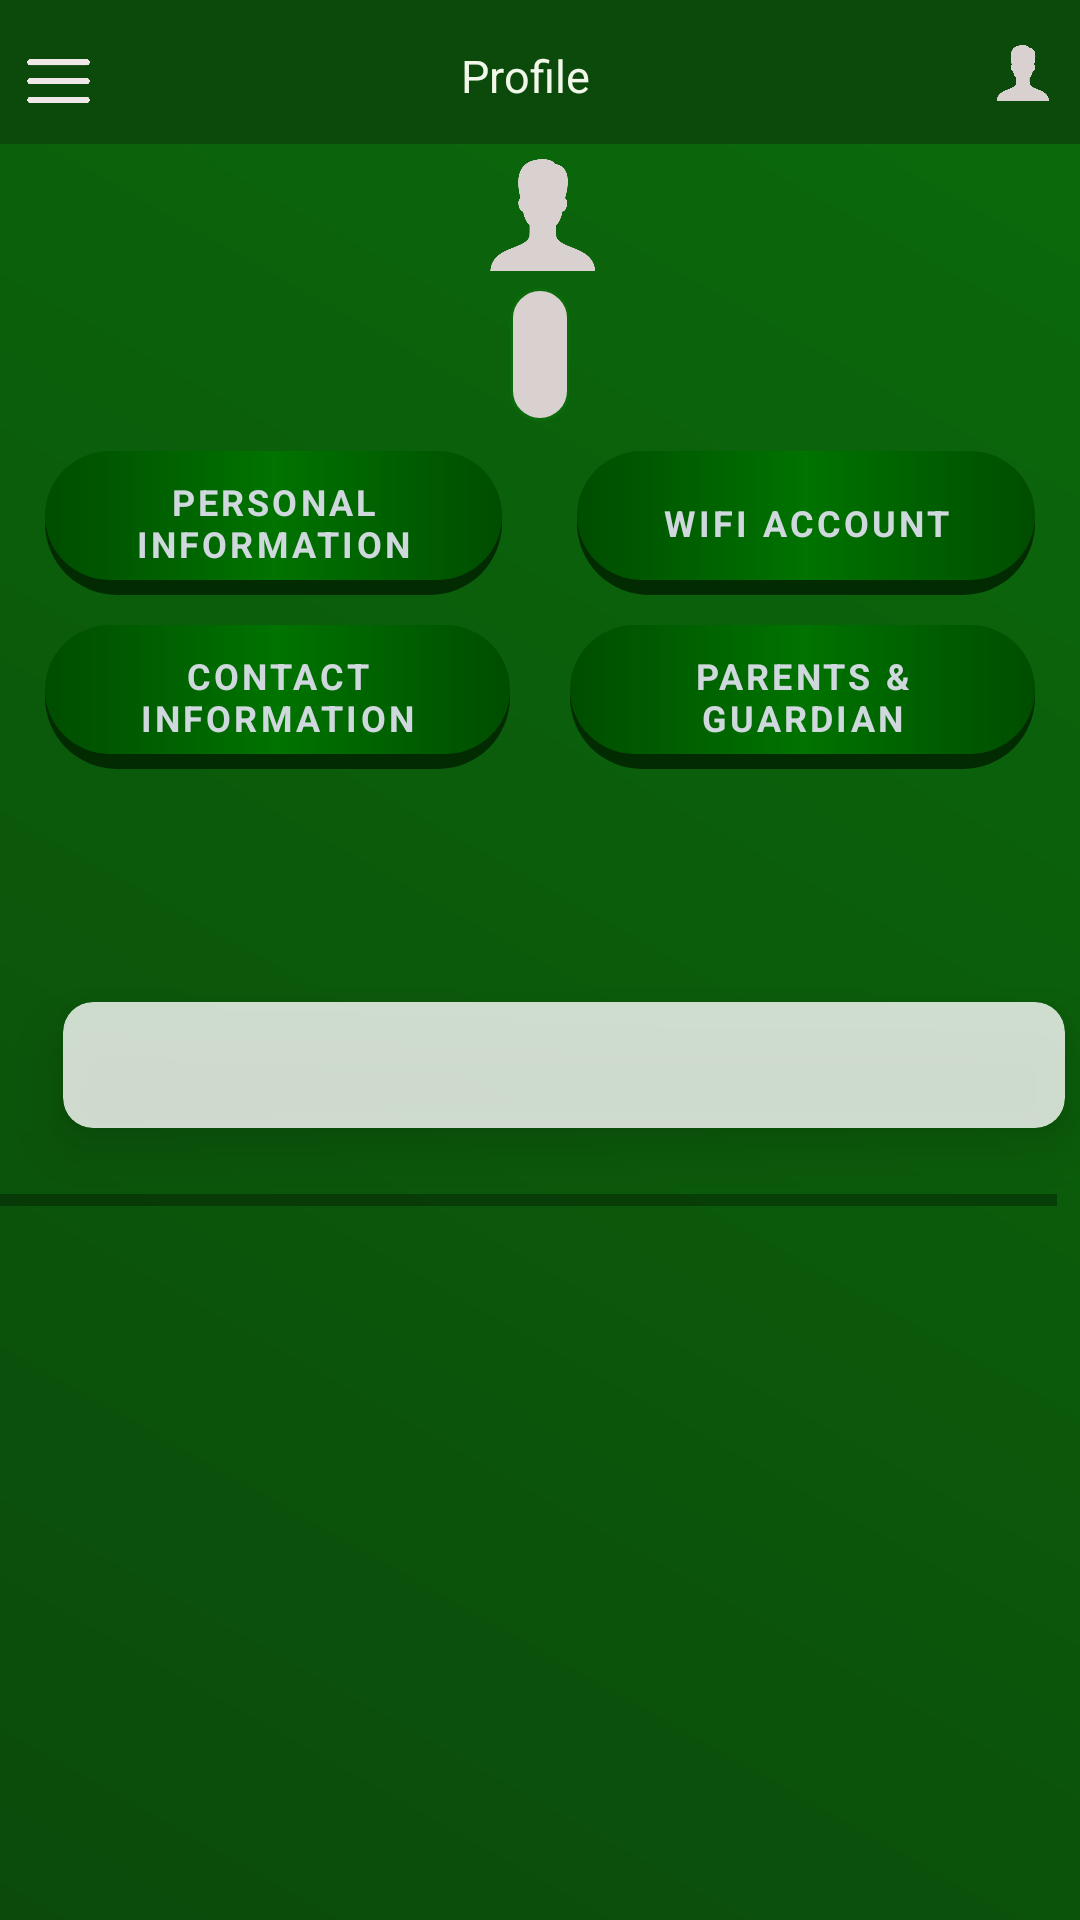

Icon bounding boxes for this 1080 x 1920 phone screenshot, format (x1, y1, x2, y2):
hamburger menu: (27, 59, 90, 103)
